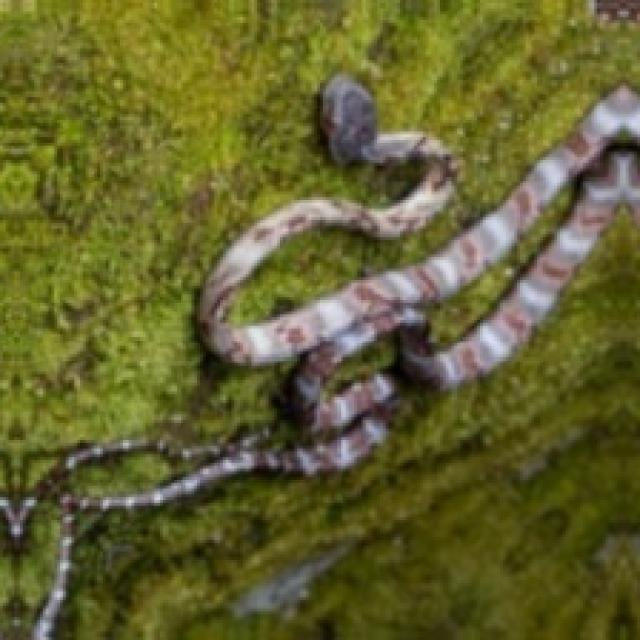dog-toothed cat snake: (31, 77, 637, 637)
